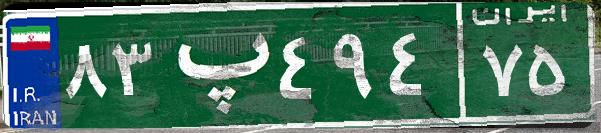3: (110, 28, 158, 105)
4: (385, 28, 445, 110), (273, 28, 330, 110)
5: (525, 38, 570, 115)
7: (475, 38, 525, 113)
8: (57, 26, 110, 107)
9: (330, 28, 385, 110)
پ: (158, 15, 273, 115)
